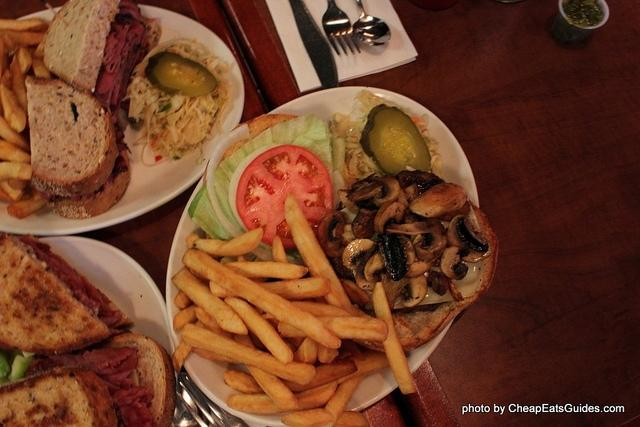mushroom: (388, 218, 447, 259), (447, 215, 492, 263), (364, 252, 400, 312), (408, 183, 468, 218), (316, 211, 356, 258), (379, 234, 415, 281), (346, 177, 400, 206), (397, 170, 446, 195), (374, 202, 406, 236), (342, 238, 374, 272), (440, 246, 470, 280), (351, 209, 378, 239), (438, 272, 464, 302), (404, 256, 436, 278), (432, 274, 449, 296)
tomato: (236, 145, 334, 249)
